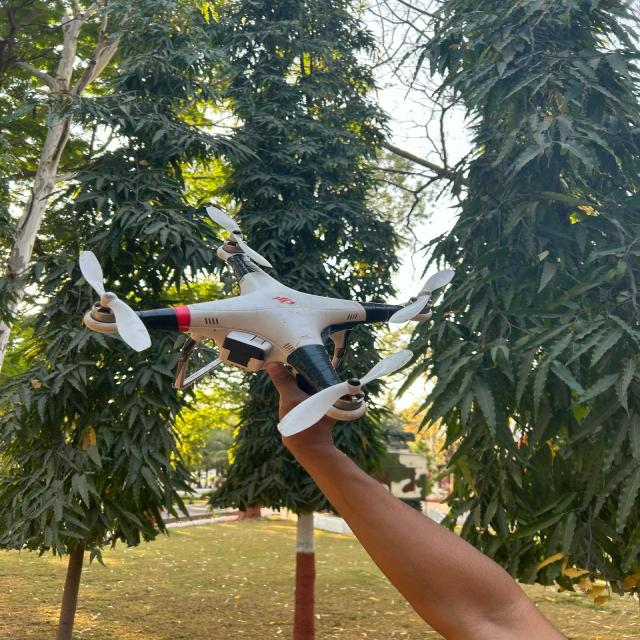drone: (56, 186, 479, 450)
